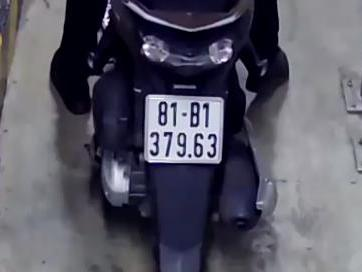num_plate: (143, 93, 223, 165)
